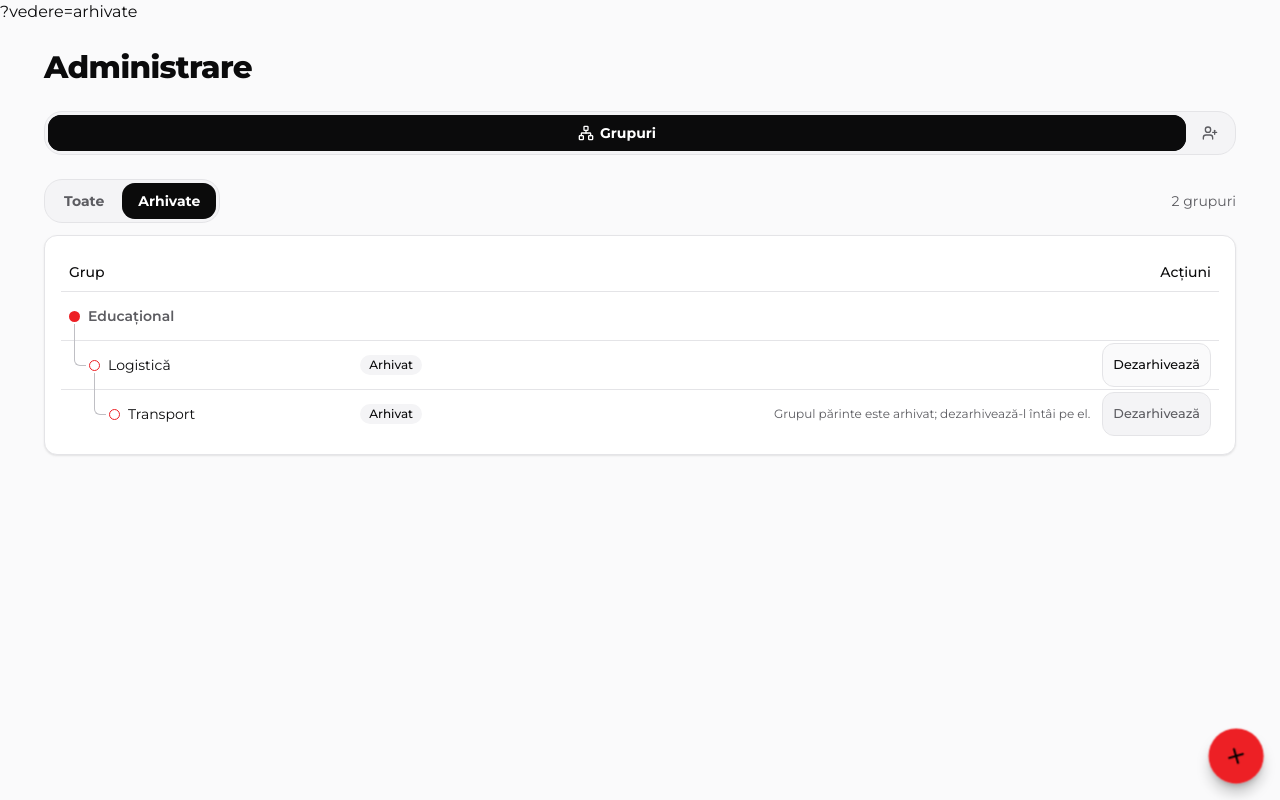
Scenario: confirms Dezarhivează with the subgroups that return, then says it is done
The width and height of the screenshot is (1280, 800).
expect the button with aria-label "Dezarhivează Transport" is disabled: met, box [1102,392,1211,436]
Click the button with aria-label "Dezarhivează Logistică": (1157, 365) [1102,343,1211,387]
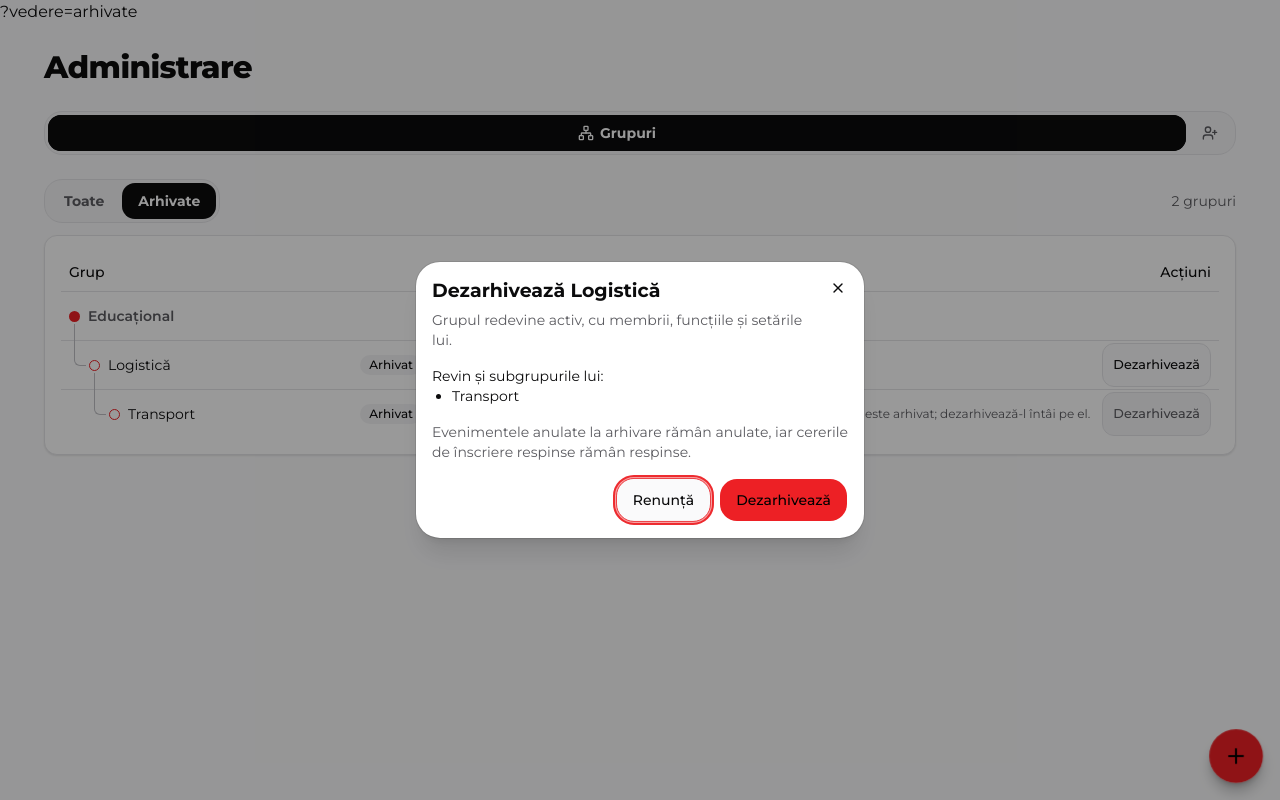
expect the list items read "Transport", in this order: met, box [452,387,519,405]
expect the text "Evenimentele anulate la arhivare rămân anulate, iar cererile de înscriere respinse rămân respinse." is shown: met, box [432,423,848,461]
Click the button "Dezarhivează": (784, 500) [719,478,848,522]
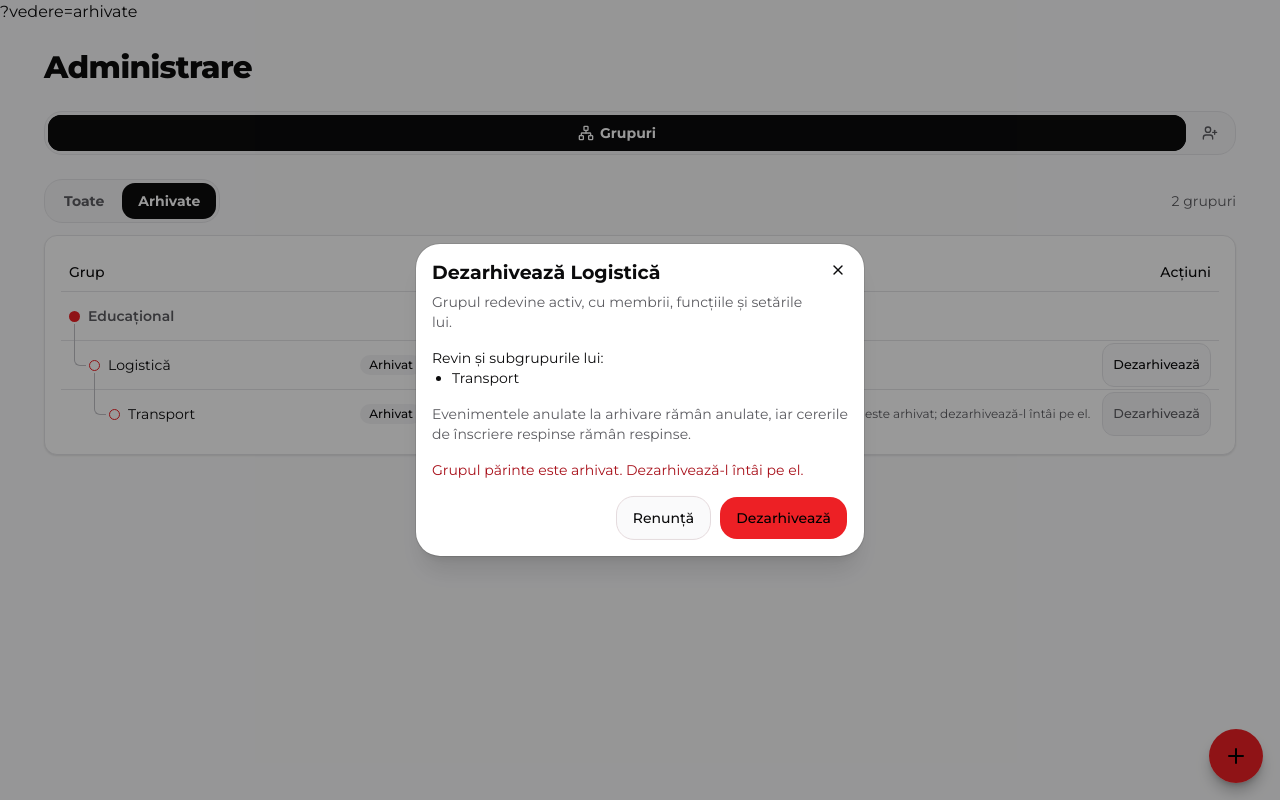
expect the message reads "Grupul părinte este arhivat. Dezarhivează-l întâi pe el.": met, box [432,461,803,479]
Click the button "Dezarhivează": (784, 518) [719,496,848,540]
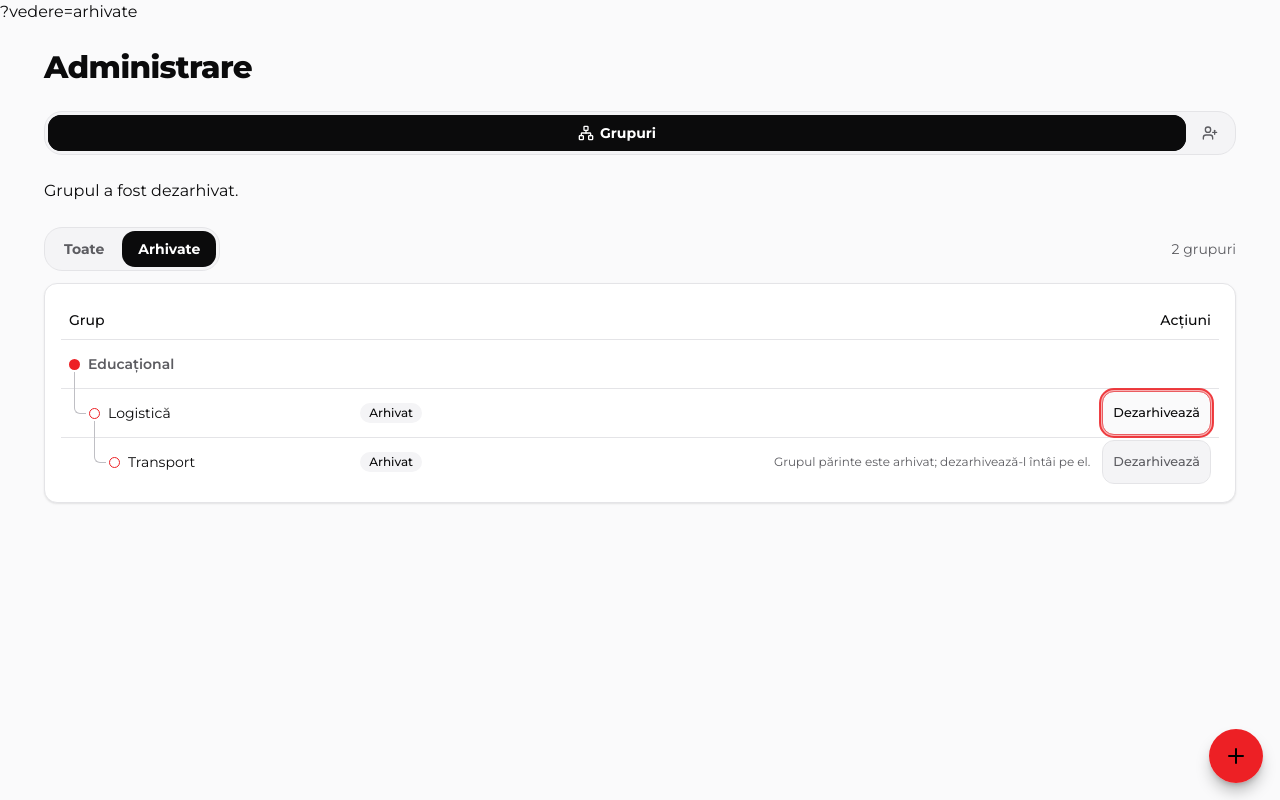
expect the heading "Dezarhivează Logistică" is gone: met
